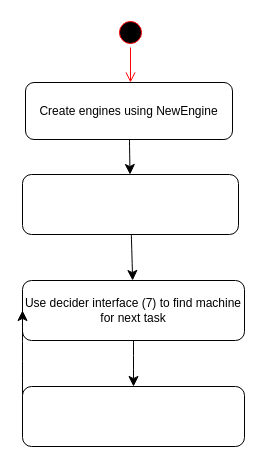
Image size: 262x464. Some labels were removed from this diagram. Here are the shapes that lost their labels. From the top down, the centre of each, then its label:
At (130,204): "Trigger the motion sensor; motion sensor completes its task".
At (133,416): "Send the next task".
